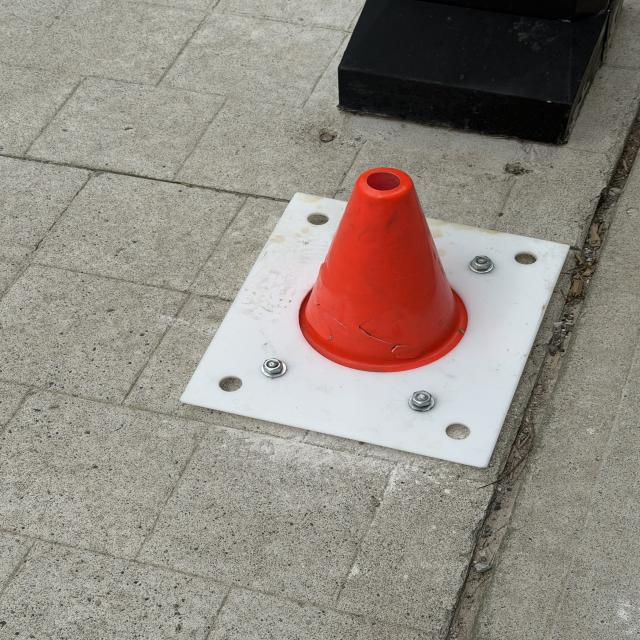Traffic Cone: (297, 165, 478, 375)
